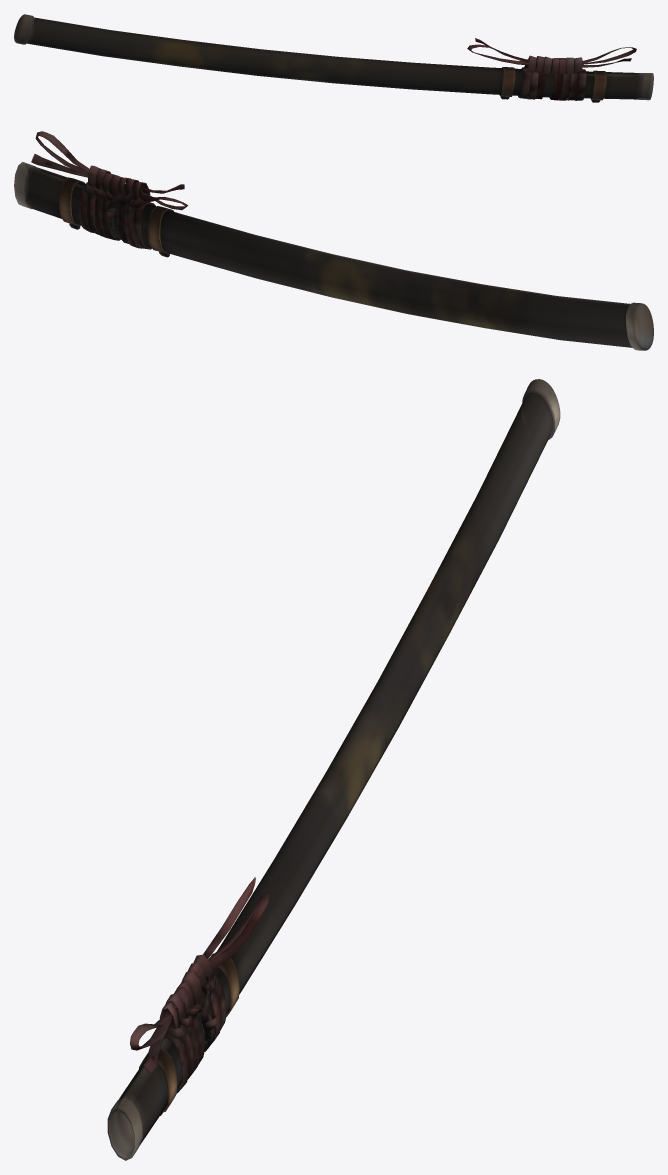
Rendered from Saya2.gltf.
The picture shows the model from 3 angles, top to bottom: view 1: azimuth 30°, elevation 25°; view 2: azimuth 150°, elevation 25°; view 3: azimuth 270°, elevation 25°; orthographic projection. The views are drawn at different scales.
Visible parts, largest first — view 1: Saya_Body; view 2: Saya_Body; view 3: Saya_Body.
Boxes of the visible parts, x1,y1,x2,y2 form: Saya_Body: (14, 14, 653, 102); Saya_Body: (14, 131, 653, 350); Saya_Body: (107, 379, 560, 1160).
Size of the model in its own units: 0.9758 by 0.2391 by 0.359.
Materials: 1 (1 with a texture image).
